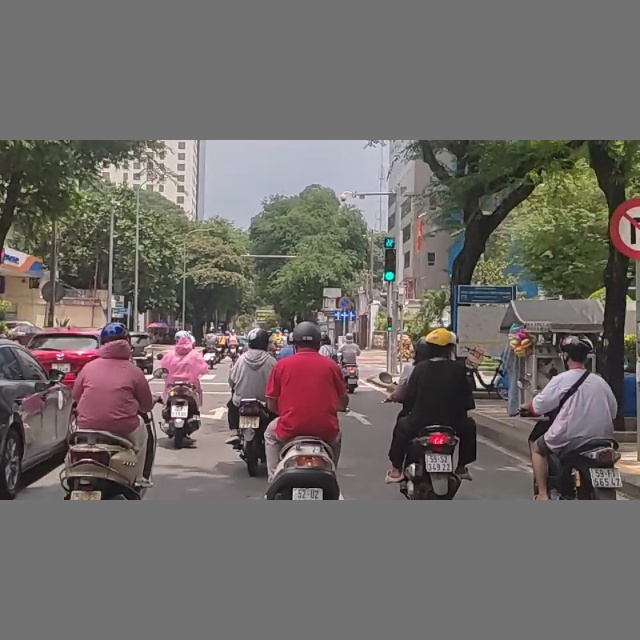P.131a: (339, 296, 355, 311)
